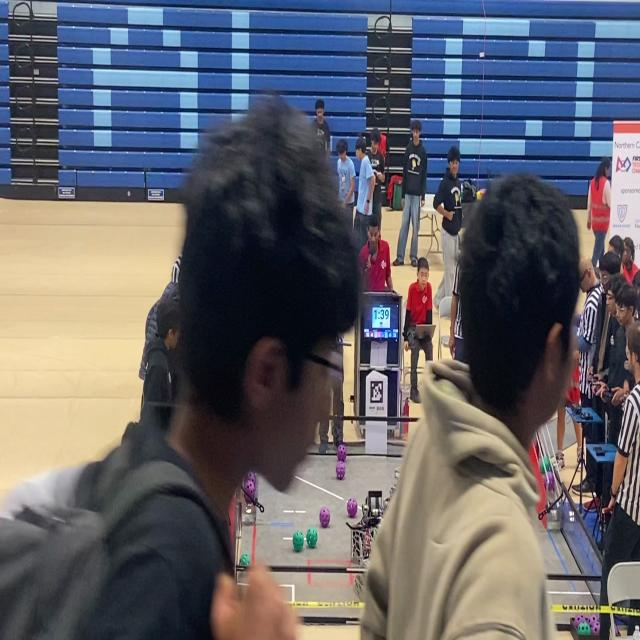artifact_green: (293, 531, 304, 552), (306, 528, 317, 548), (540, 456, 551, 475), (577, 622, 591, 635), (573, 614, 586, 628), (240, 553, 250, 566), (590, 621, 599, 635), (544, 456, 551, 472), (539, 458, 545, 475)
artifact_purple: (243, 480, 255, 502), (347, 498, 357, 517), (320, 508, 330, 527), (545, 472, 555, 491), (336, 461, 345, 479), (337, 444, 346, 462), (574, 614, 586, 627), (586, 614, 599, 625), (590, 621, 599, 635), (246, 472, 256, 484)
